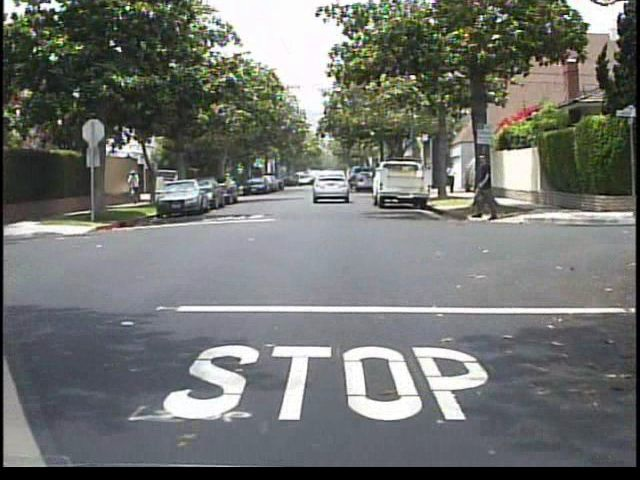person: (462, 152, 504, 223), (126, 169, 147, 205), (169, 170, 186, 202), (446, 160, 459, 199)
